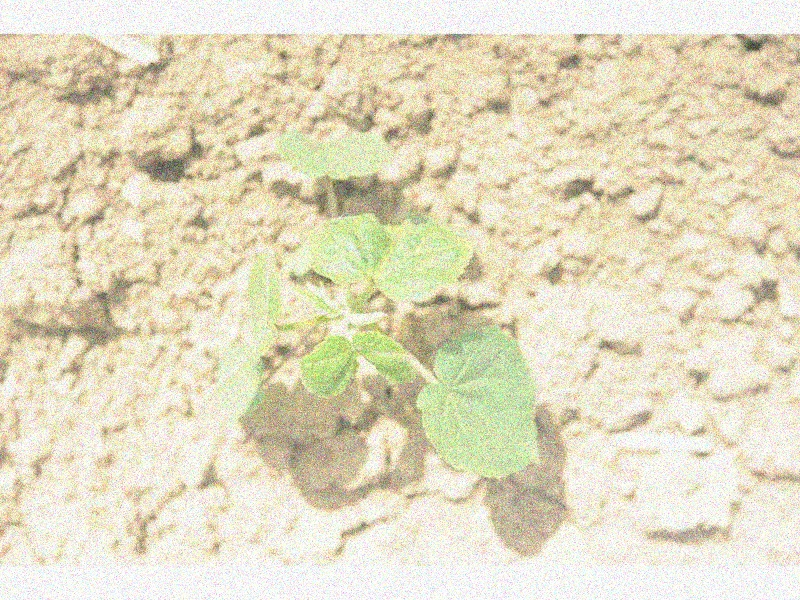velvet: (216, 127, 538, 480)
